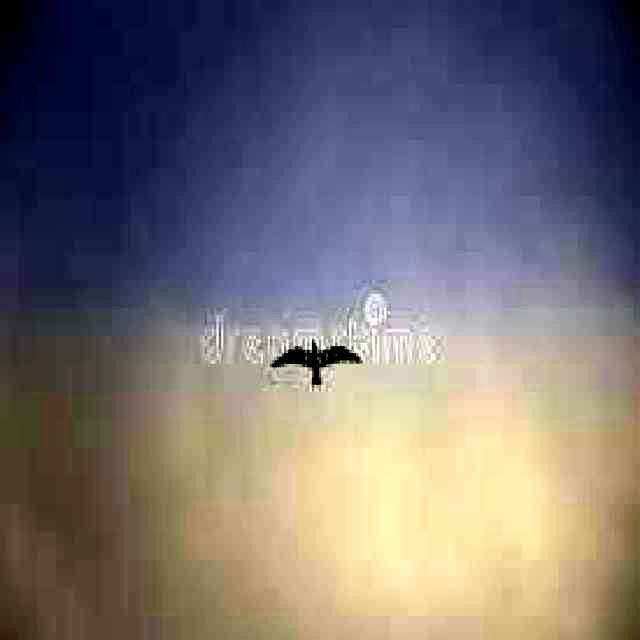bird: (270, 328, 363, 392)
